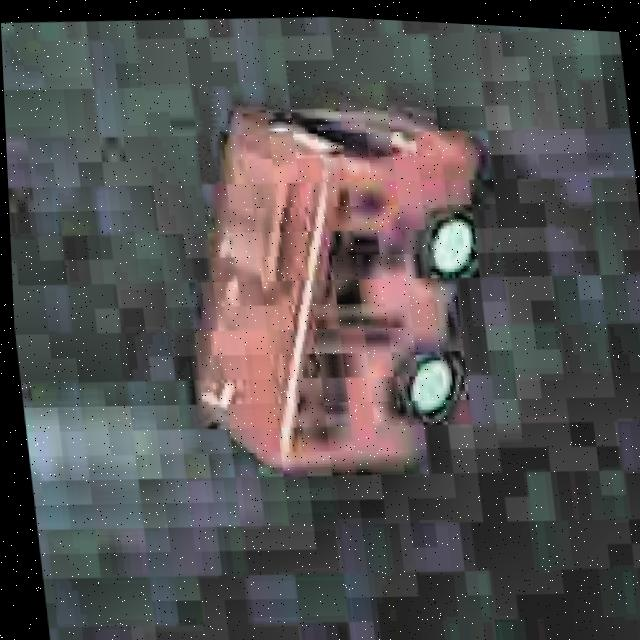bus: (150, 75, 535, 501)
